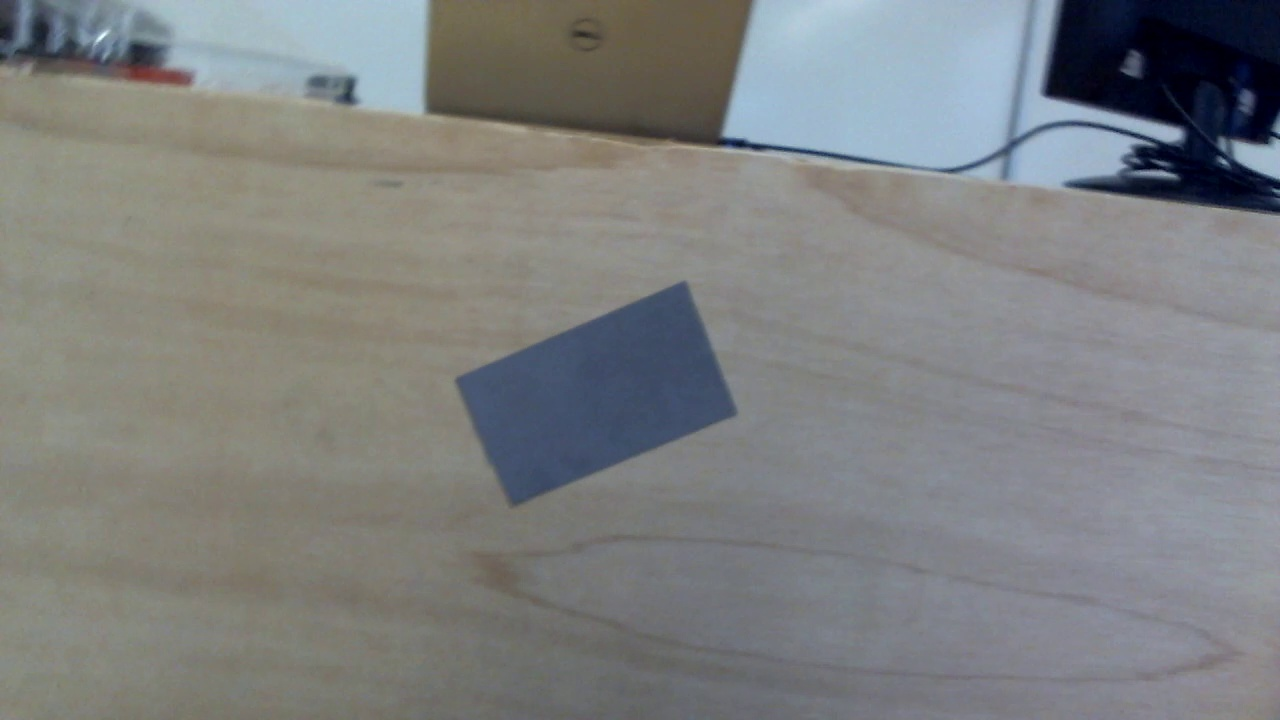Tape: (457, 282, 744, 509)
